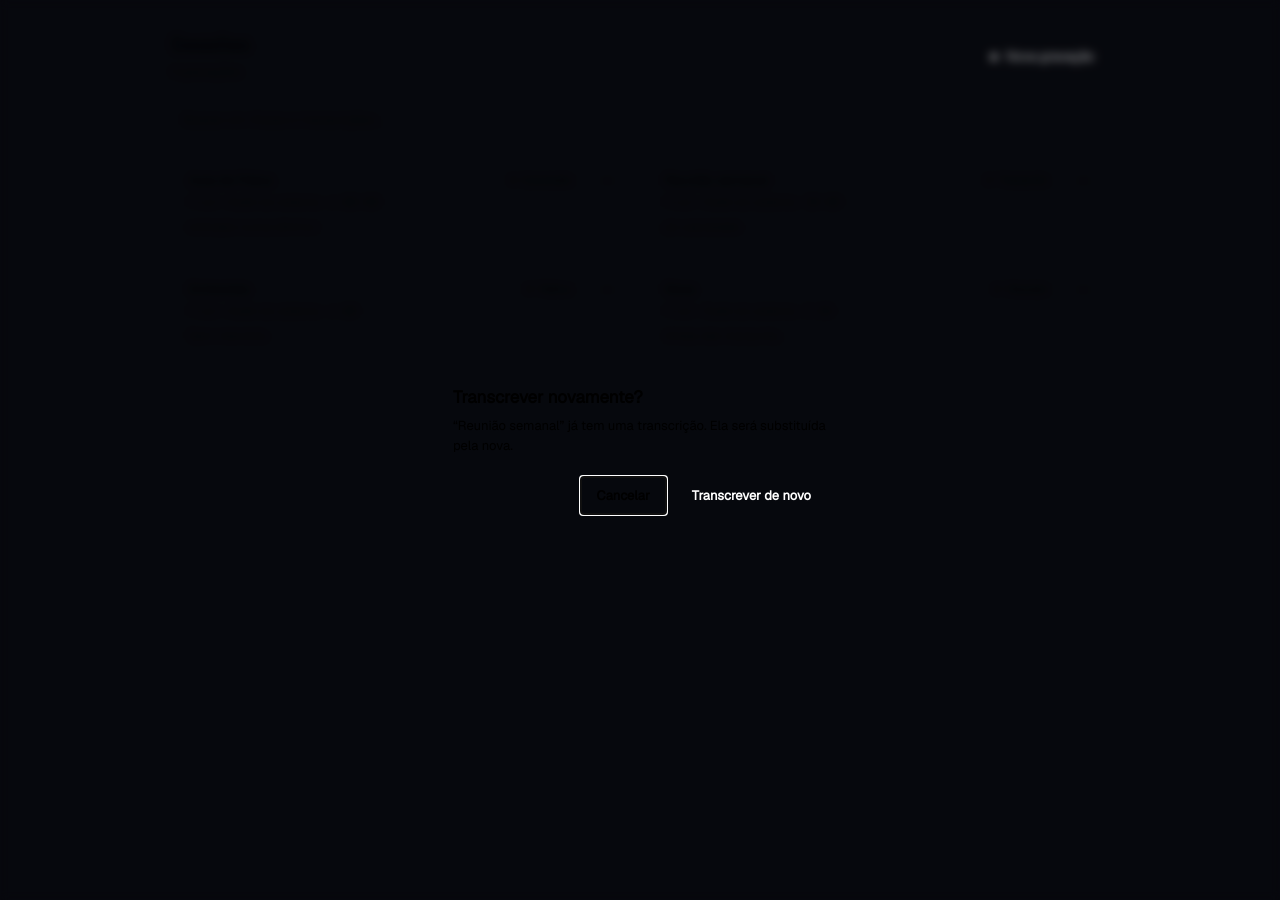
Test case: SessionsPage › re-transcribe confirmation can be cancelled; untranscribed sessions skip it
Step 1. Click the button with test id "retranscribe-cancel" → (623, 496), box [580,477,666,514]
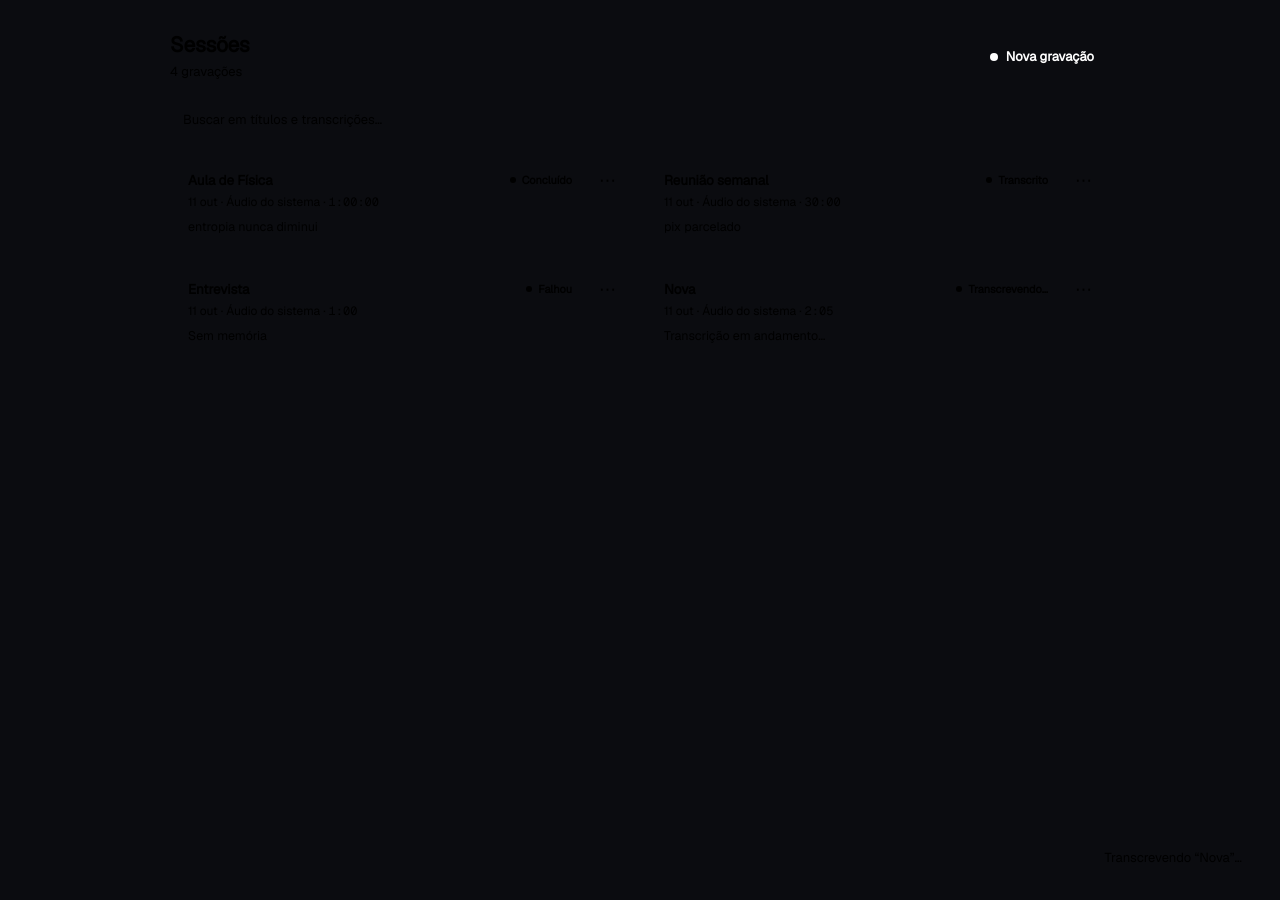
Now the dialog with test id "retranscribe-modal" is gone
